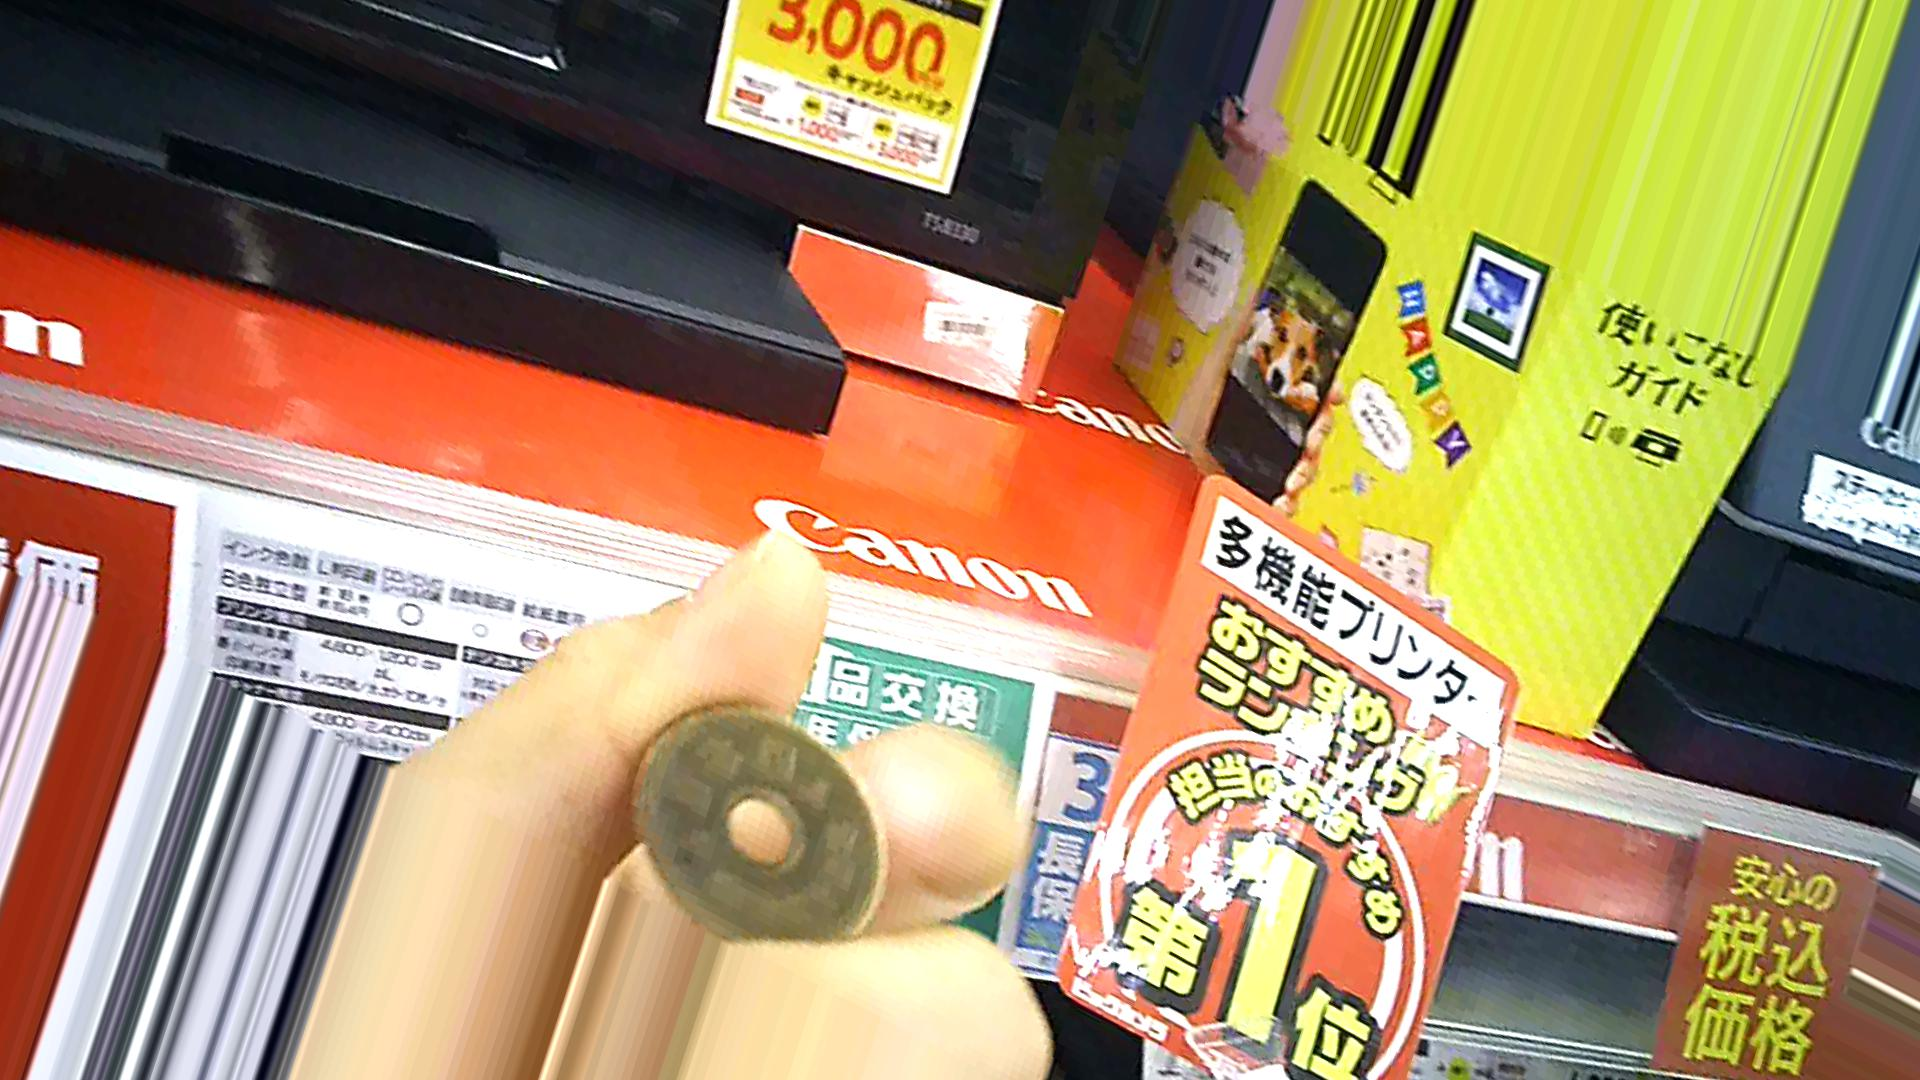5 Yen: (615, 703, 897, 956)
